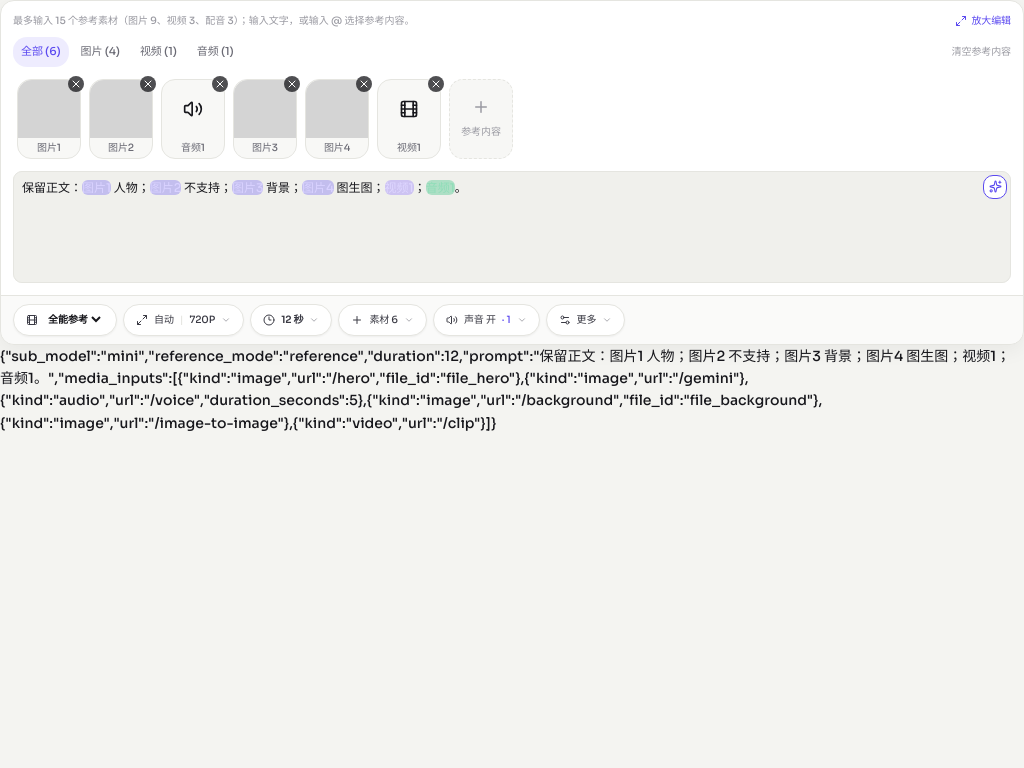
Test: portrait reference removal consent › keeps the checkbox off and all original data on cancel
Click the button with aria-label "高级设置" at [586, 320], box [546,304,625,336]
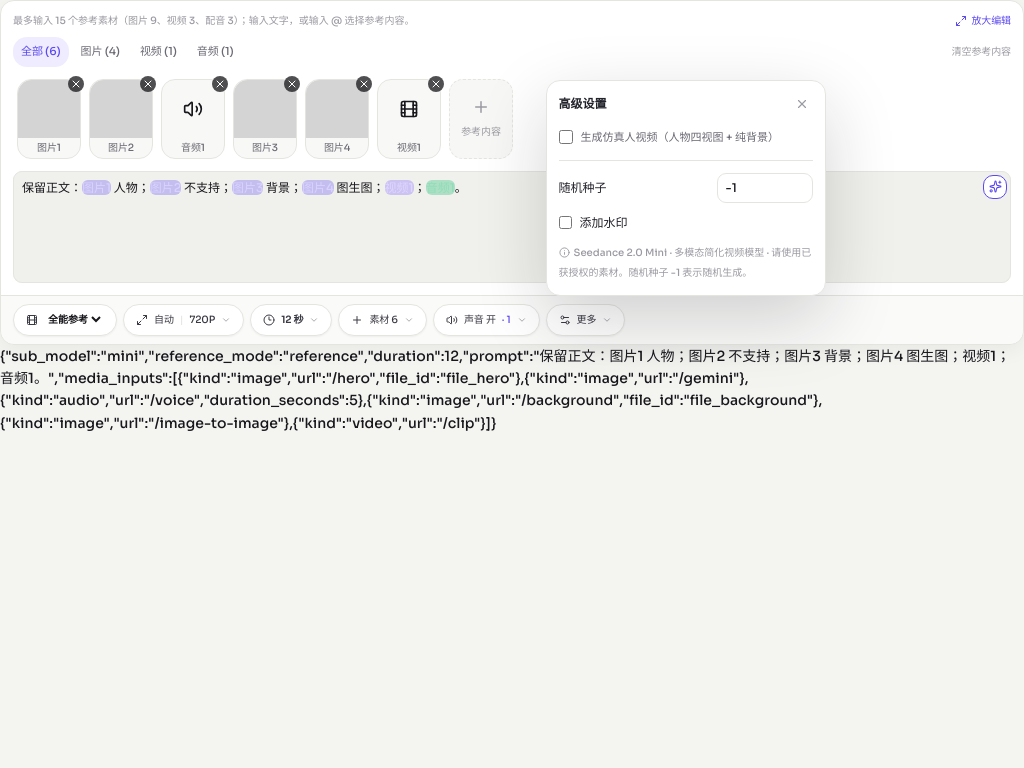
Click the checkbox labelled "生成仿真人视频（人物四视图 + 纯背景）" at [566, 137], box [559,130,573,144]
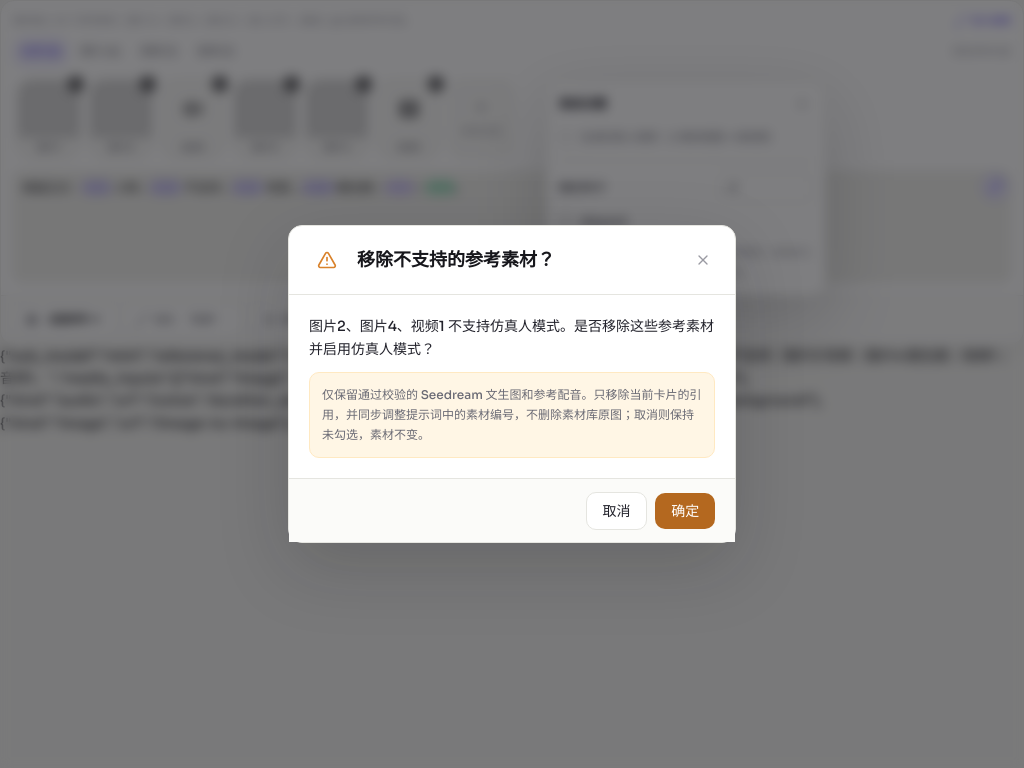
Click the button "取消" at [616, 511], box [586,492,647,530]
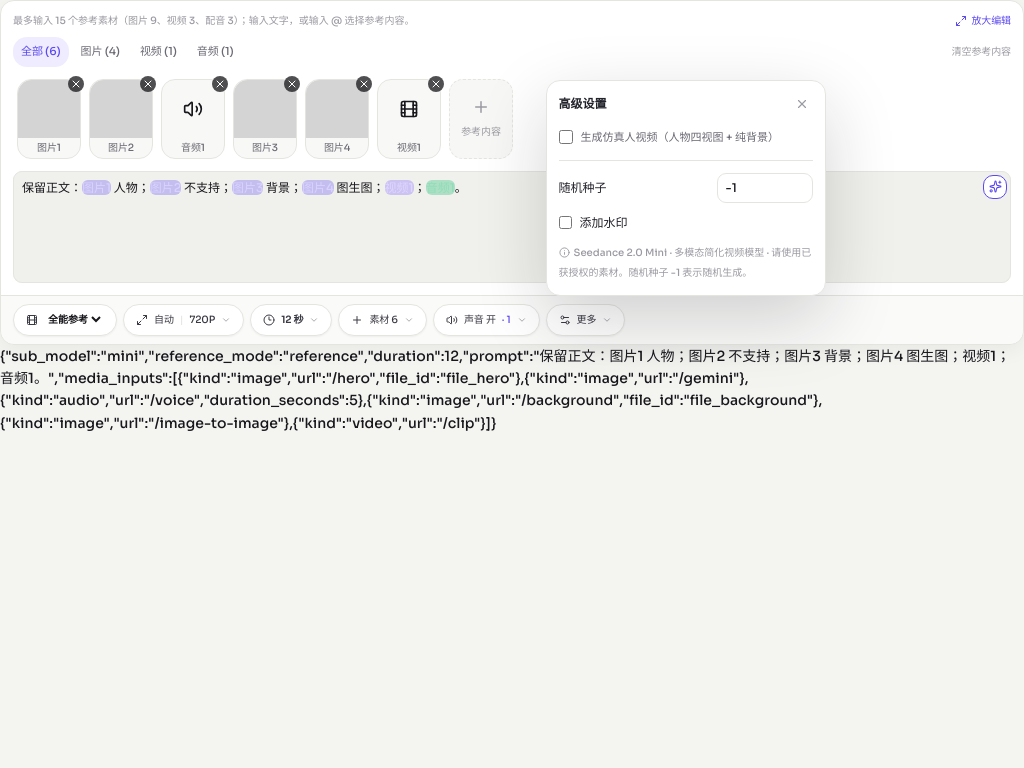
expect the checkbox labelled "生成仿真人视频（人物四视图 + 纯背景）" is not checked: met, box [559,130,573,144]
expect the heading "移除不支持的参考素材？" is gone: met
